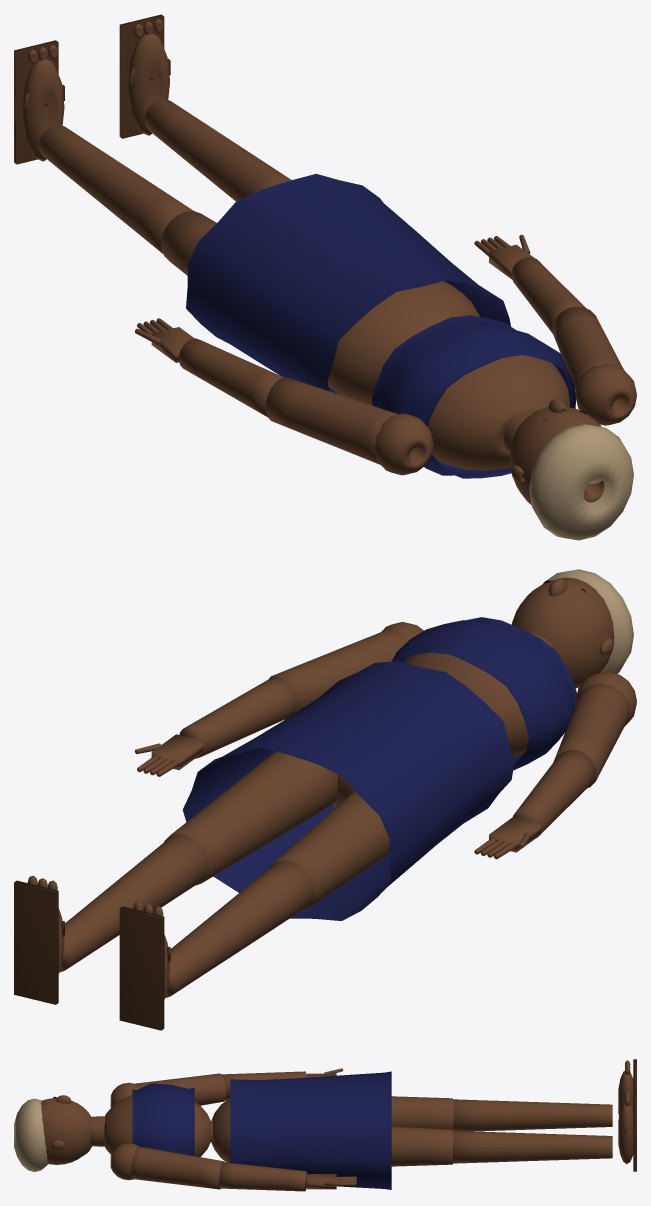
File: NPC_CIVILIAN_F1.obj
3 renders of one model, top to bottom at view 1: azimuth 30°, elevation 25°; view 2: azimuth 150°, elevation 25°; view 3: azimuth 270°, elevation 25°, orthographic. The views are drawn at different scales.
Visible parts, largest first — view 1: wrapper_skirt, chest_wrapper, shin_foot.L, torso, shin_foot.R, head_tie, upperarm.L, pelvis, upperarm.R, forearm_hand.L, forearm_hand.R, head (+3 smaller); view 2: wrapper_skirt, chest_wrapper, thigh.R, shin_foot.L, shin_foot.R, head, thigh.L, forearm_hand.R, sandal.L, sandal.R, forearm_hand.L, upperarm.L (+3 smaller); view 3: wrapper_skirt, shin_foot.R, shin_foot.L, chest_wrapper, upperarm.R, head, forearm_hand.R, thigh.R, torso, thigh.L, head_tie, upperarm.L (+3 smaller).
Part boxes in pixels (<box>): wrapper_skirt: <box>186,173,510,394</box>; chest_wrapper: <box>371,315,575,478</box>; shin_foot.L: <box>22,44,193,253</box>; torso: <box>427,355,569,470</box>; shin_foot.R: <box>127,19,291,201</box>; head_tie: <box>529,424,633,540</box>; upperarm.L: <box>265,377,433,475</box>; pelvis: <box>327,281,479,405</box>; upperarm.R: <box>552,306,636,425</box>; forearm_hand.L: <box>135,318,283,416</box>; forearm_hand.R: <box>474,234,585,333</box>; head: <box>504,406,604,504</box>; wrapper_skirt: <box>182,661,514,920</box>; chest_wrapper: <box>392,617,576,770</box>; thigh.R: <box>164,751,337,885</box>; shin_foot.L: <box>133,860,314,999</box>; shin_foot.R: <box>27,834,208,973</box>; head: <box>511,577,614,688</box>; thigh.L: <box>269,790,389,911</box>; forearm_hand.R: <box>134,677,294,776</box>; sandal.L: <box>119,906,170,1030</box>; sandal.R: <box>14,880,64,1004</box>; forearm_hand.L: <box>474,749,595,859</box>; upperarm.L: <box>553,671,636,788</box>; wrapper_skirt: <box>230,1071,391,1189</box>; shin_foot.R: <box>453,1092,633,1163</box>; shin_foot.L: <box>453,1060,633,1131</box>; chest_wrapper: <box>132,1083,194,1155</box>; upperarm.R: <box>110,1143,224,1189</box>; head: <box>40,1098,105,1164</box>; forearm_hand.R: <box>219,1162,356,1191</box>; thigh.R: <box>391,1126,453,1166</box>; torso: <box>103,1095,210,1156</box>; thigh.L: <box>391,1096,453,1130</box>; head_tie: <box>14,1098,47,1171</box>; upperarm.L: <box>110,1073,226,1107</box>.
Size of the model in its own units: 0.7818 by 0.3242 by 1.78.
